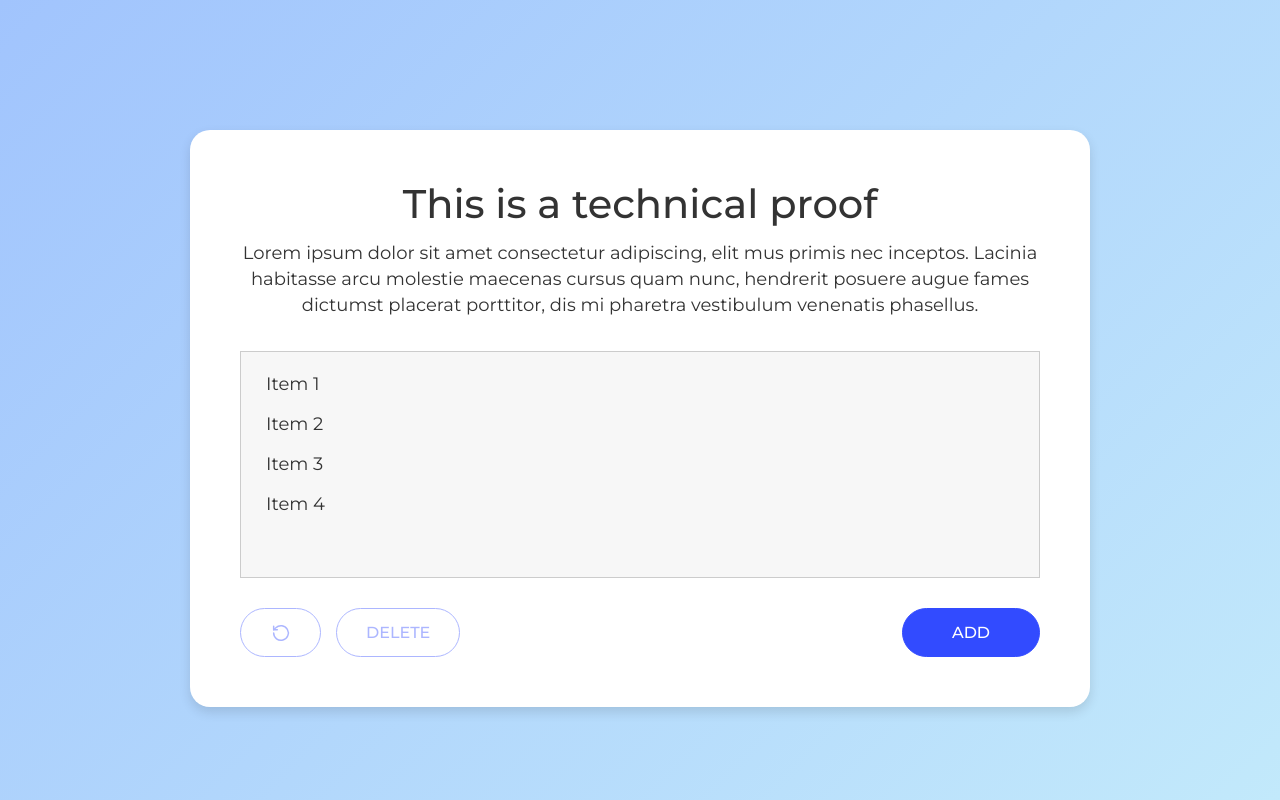
Test case: App › closes the dialog without adding when cancelled
The image size is (1280, 800).
Click the button "Add" at {"x": 971, "y": 633}, box left=902, top=608, right=1040, bottom=657
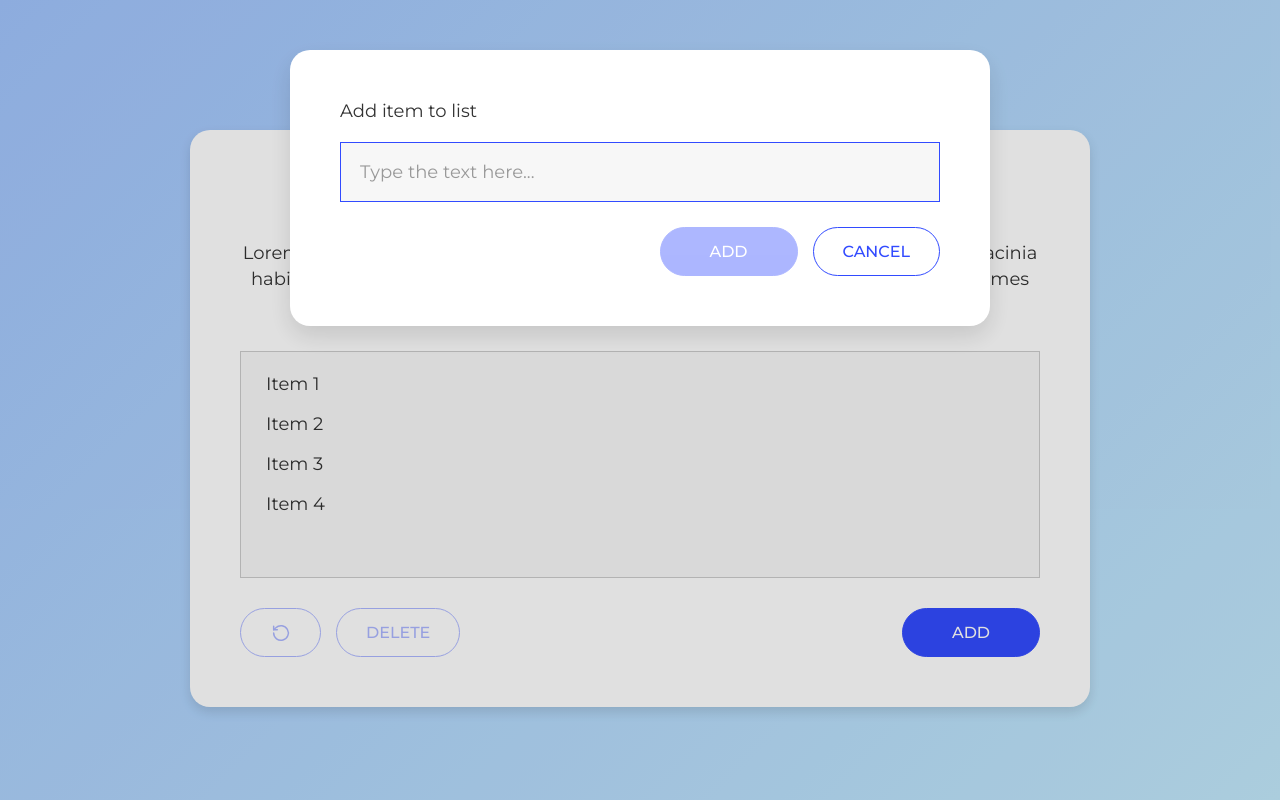
Type "Discarded" into the field at {"x": 640, "y": 172}, box left=340, top=142, right=940, bottom=202
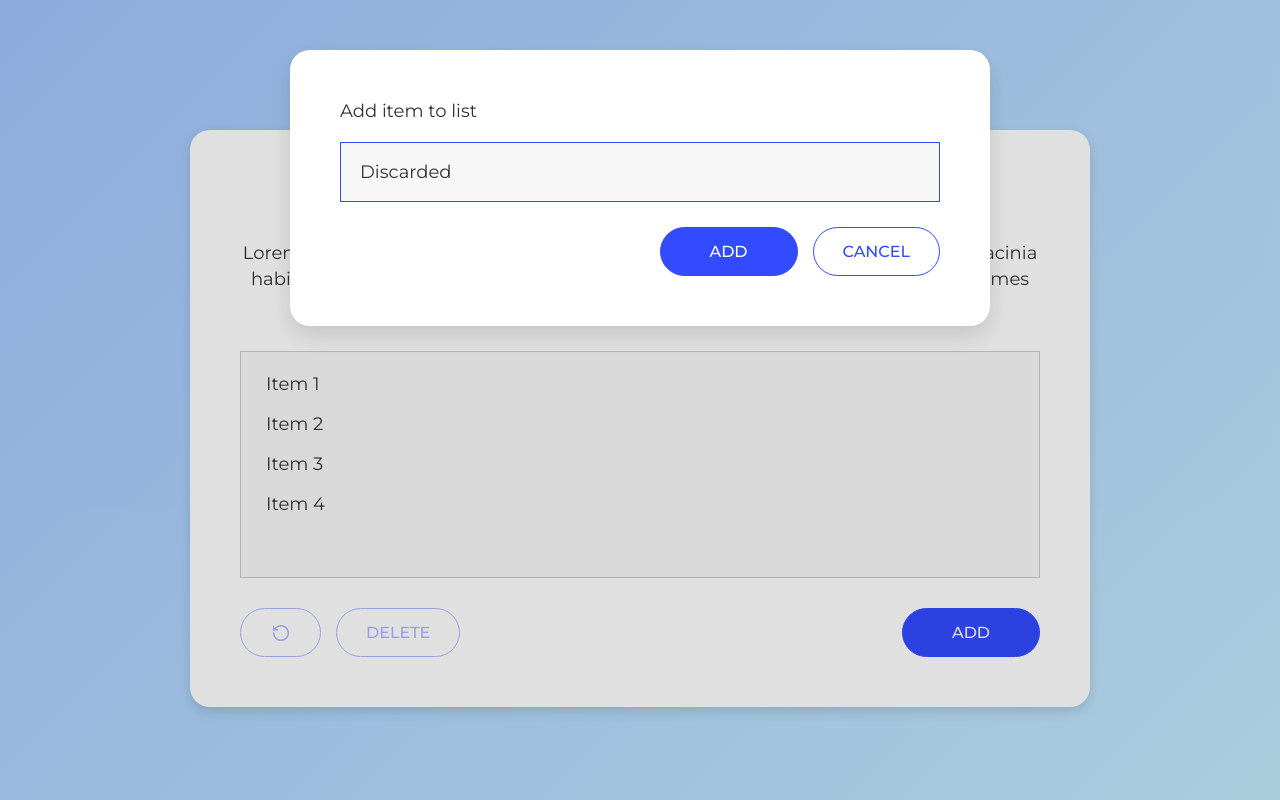
Click the button "Cancel" at {"x": 876, "y": 252}, box left=812, top=227, right=940, bottom=276
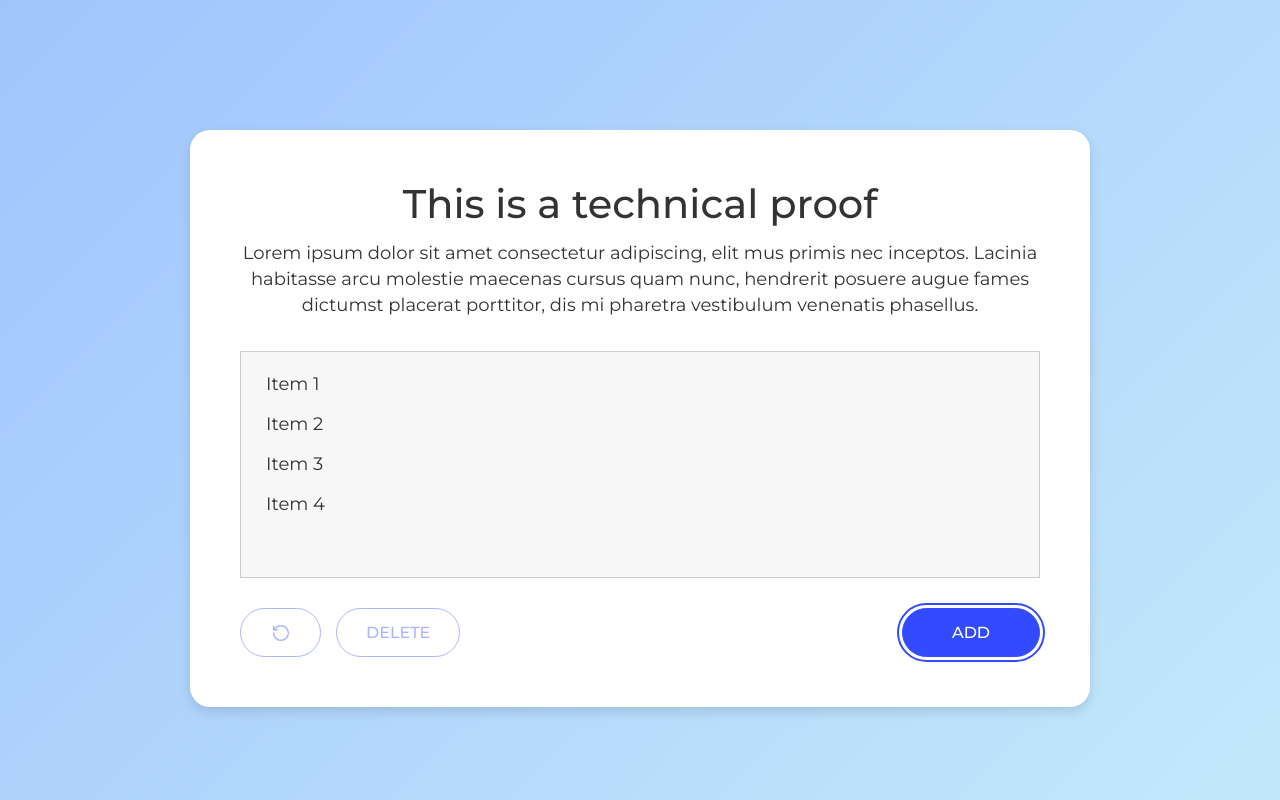
Now the dialog is gone
